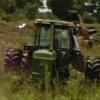Tractor: (11, 7, 87, 87)
